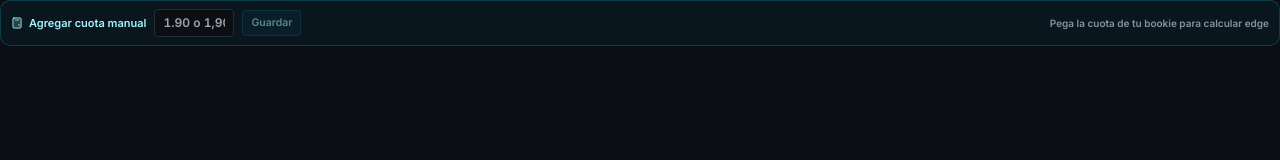
Test: manual_odds_no_value_message_specific
The image size is (1280, 160).
In the field with test id "inline-manual-odds-input-field": point(194, 23) [154,9,234,37], type "1.64"
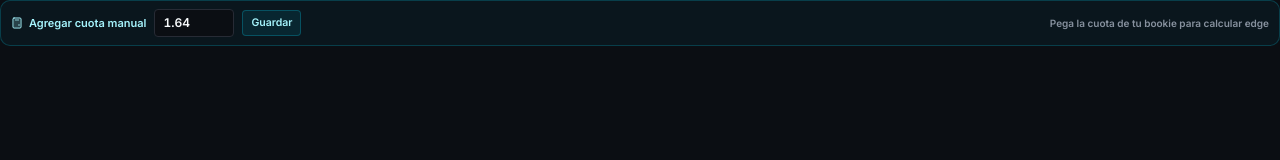
Click the button with test id "inline-manual-odds-input-submit": point(272, 23) [242,10,301,36]
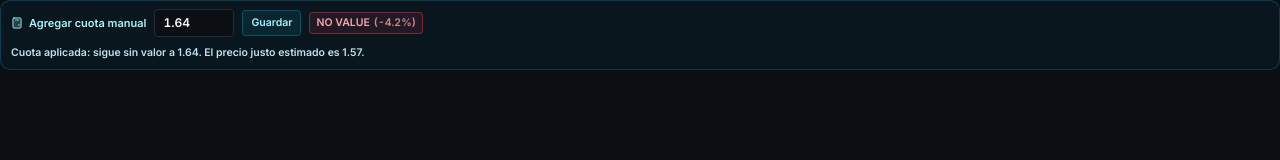
Result: the element with test id "inline-manual-odds-input-decision" shows "NO VALUE" at [316,16,370,29]
Result: the text with test id "inline-manual-odds-input-reprice-msg" shows "sigue sin valor" at [11,46,364,59]
Result: the text with test id "inline-manual-odds-input-reprice-msg" shows "1.57" at [11,46,364,59]
